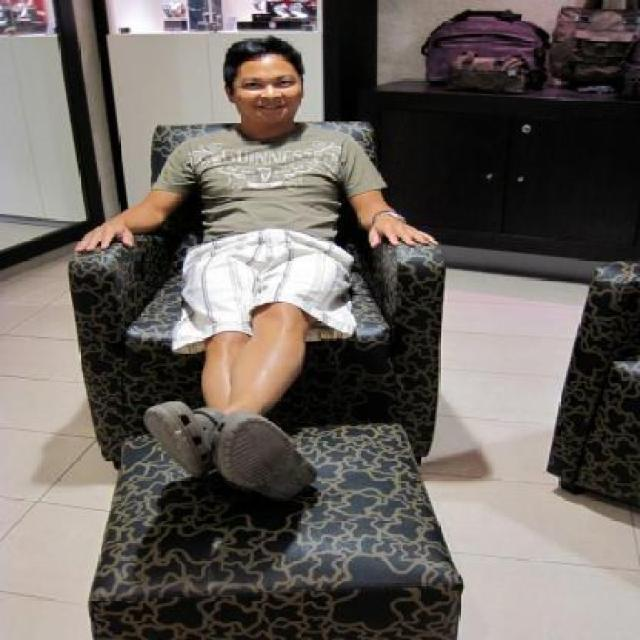backpack: (412, 6, 552, 99), (551, 1, 640, 97)
